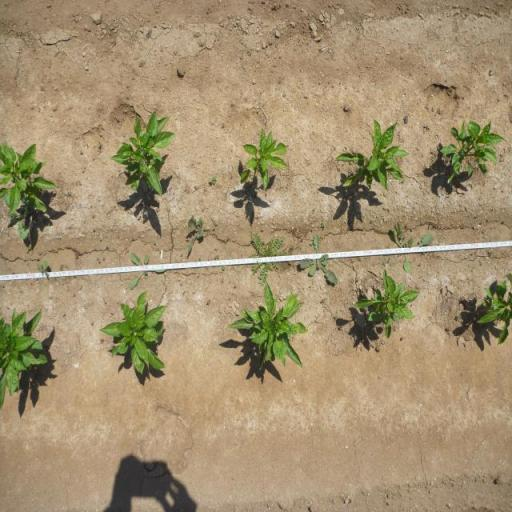plant: (227, 283, 309, 371), (98, 290, 170, 376), (110, 107, 176, 198), (333, 118, 411, 192), (0, 302, 52, 406), (353, 267, 421, 340), (0, 140, 59, 215), (439, 117, 504, 185), (238, 126, 292, 192), (476, 270, 512, 347)
weed: (248, 232, 289, 287), (392, 220, 434, 273), (298, 233, 340, 286), (129, 250, 167, 290), (6, 190, 36, 240), (188, 216, 206, 254), (37, 260, 49, 276), (208, 175, 218, 184), (320, 219, 327, 229), (195, 256, 203, 262), (214, 254, 220, 261), (488, 250, 494, 257), (444, 156, 450, 162), (320, 298, 326, 304), (338, 324, 343, 331), (25, 246, 32, 251), (100, 337, 105, 343), (334, 313, 338, 320), (98, 141, 102, 148), (458, 314, 462, 320), (288, 260, 292, 266), (446, 326, 450, 331), (214, 247, 218, 252), (221, 266, 226, 270), (292, 248, 295, 254), (185, 238, 189, 242), (98, 256, 100, 262), (80, 148, 82, 154), (290, 247, 293, 250), (106, 244, 108, 248), (261, 228, 263, 231), (68, 192, 70, 194)
